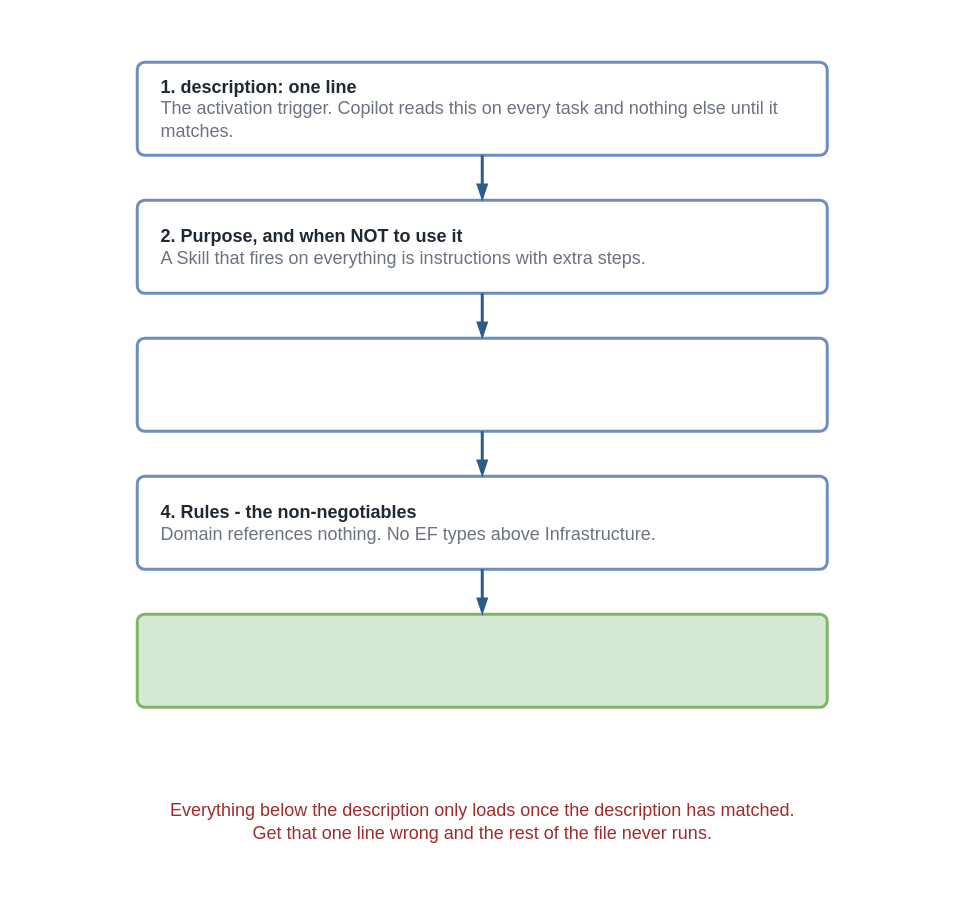
This 963x915 diagram has some shape labels left out. Each missing label, with the centre of its shape:
3. Inputs the Skill needs Project name, layer, the entity being added: pixel 481 384
5. The numbered workflow The order the files get created in: pixel 481 660
